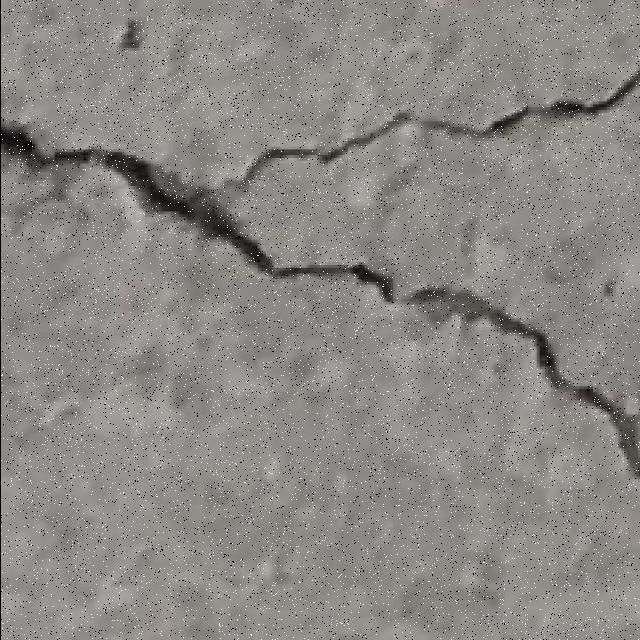crack: (3, 109, 640, 483), (9, 126, 389, 295), (424, 49, 634, 134), (241, 117, 420, 180)
